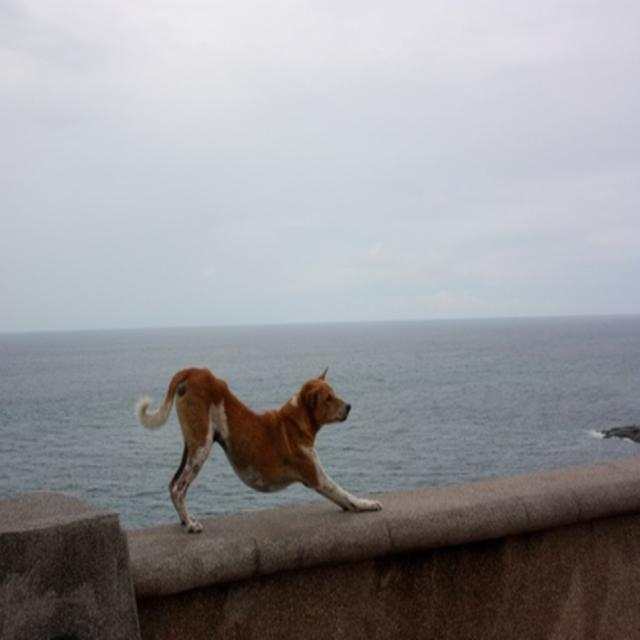dog: (128, 360, 392, 538)
